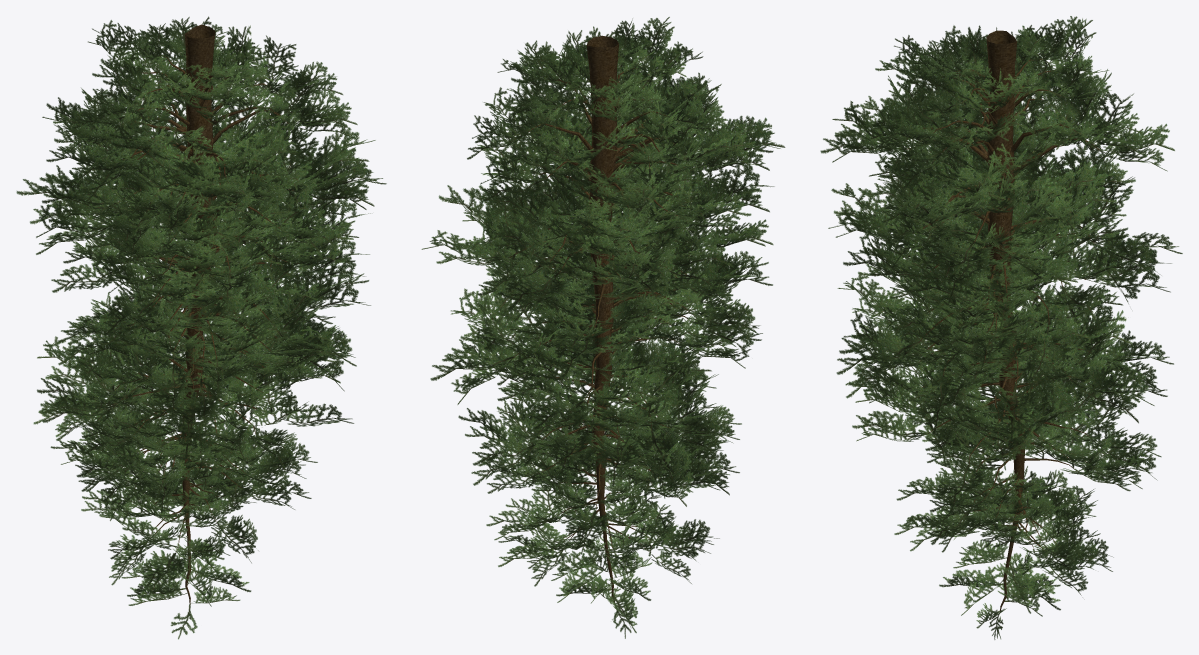
The model's file is spruce.glb.
The picture shows the model from 3 angles, left to right: view 1: azimuth 30°, elevation 25°; view 2: azimuth 150°, elevation 25°; view 3: azimuth 270°, elevation 25°; orthographic projection. The views are drawn at different scales.
Visible parts, largest first — view 1: Christmas tree_LOD0; view 2: Christmas tree_LOD0; view 3: Christmas tree_LOD0.
Boxes of the visible parts, left/top/right/bottom form: Christmas tree_LOD0: left=16, top=16, right=386, bottom=639; Christmas tree_LOD0: left=421, top=17, right=785, bottom=638; Christmas tree_LOD0: left=820, top=16, right=1182, bottom=639.
Bounding box in the file's own units: 5.29 × 9.29 × 5.04.
Materials: 2 (2 with a texture image).
